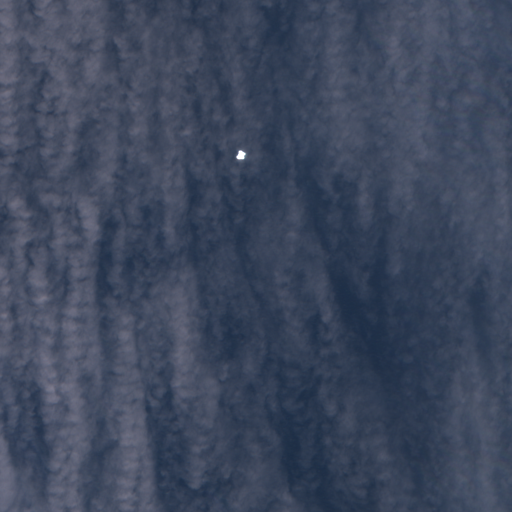Iceberg: (236, 150, 245, 159)
